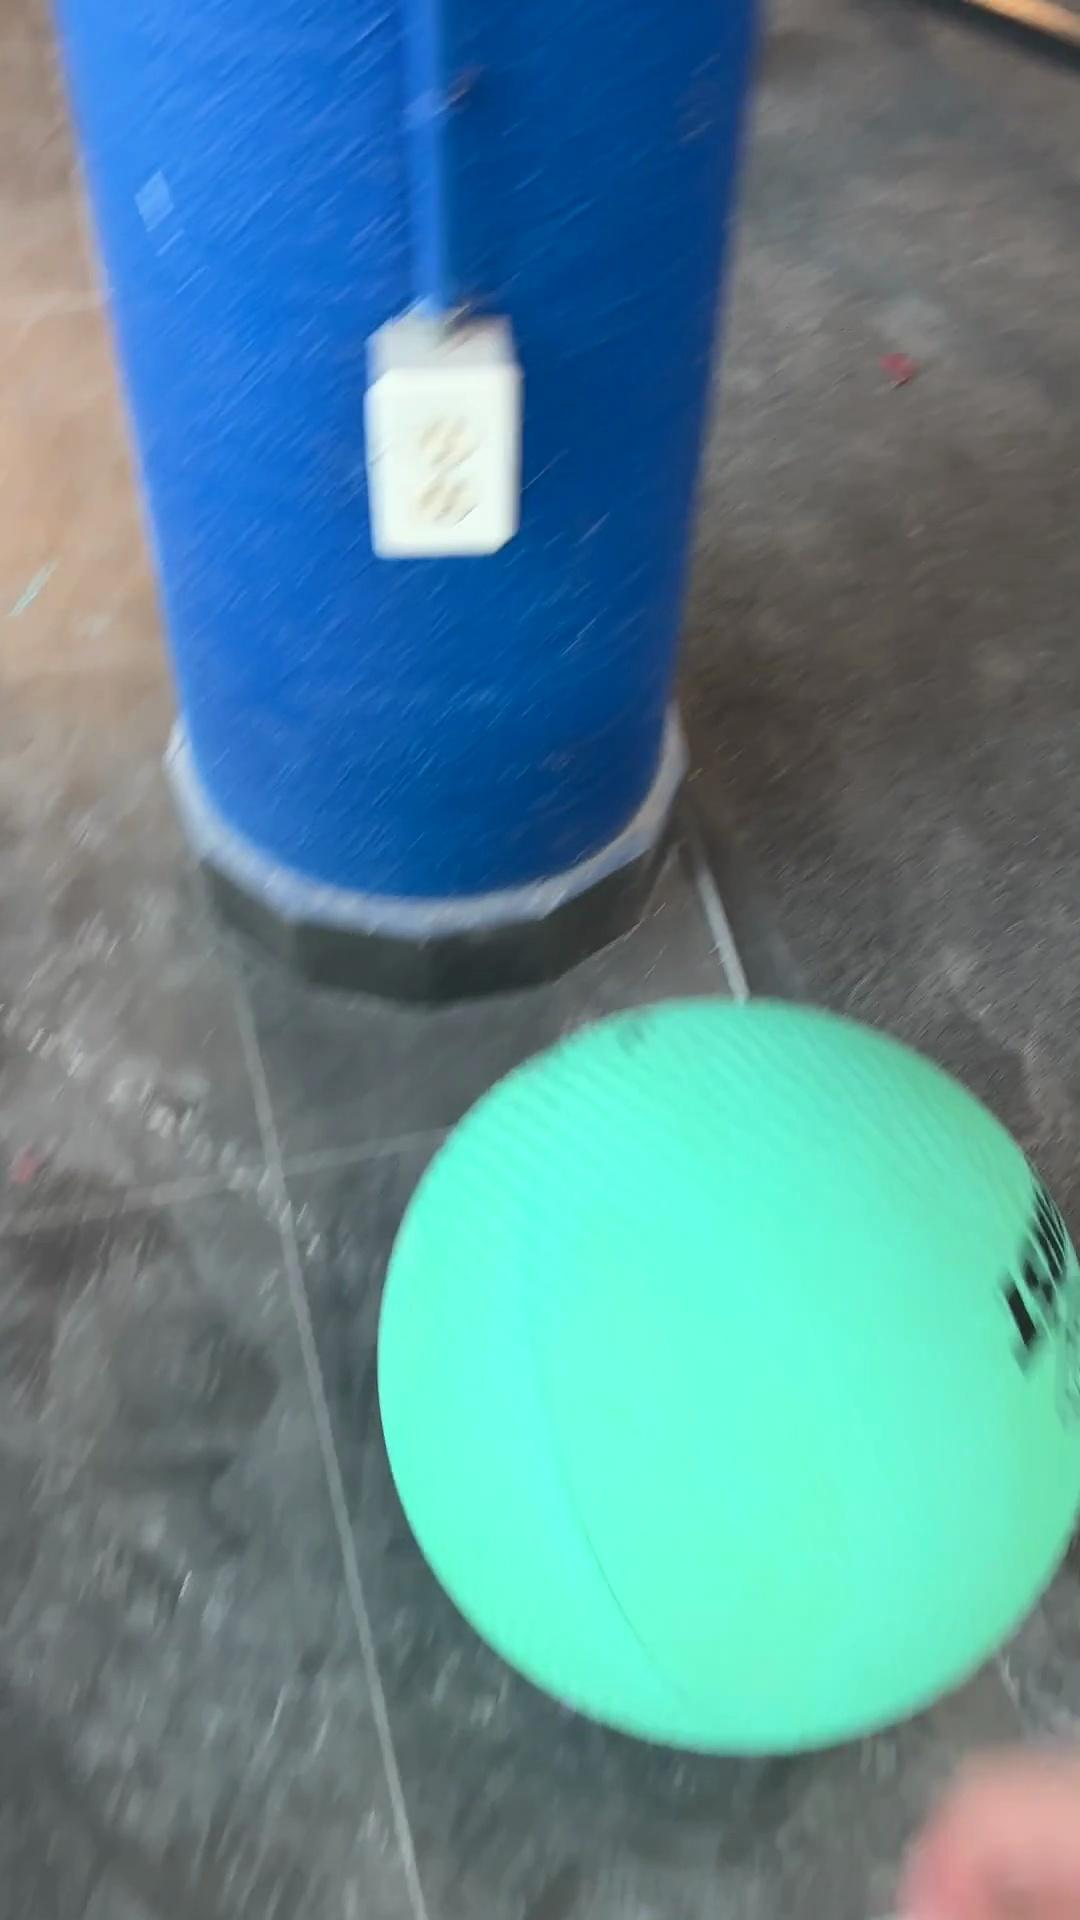ALGAE: (373, 990, 1077, 1759)
